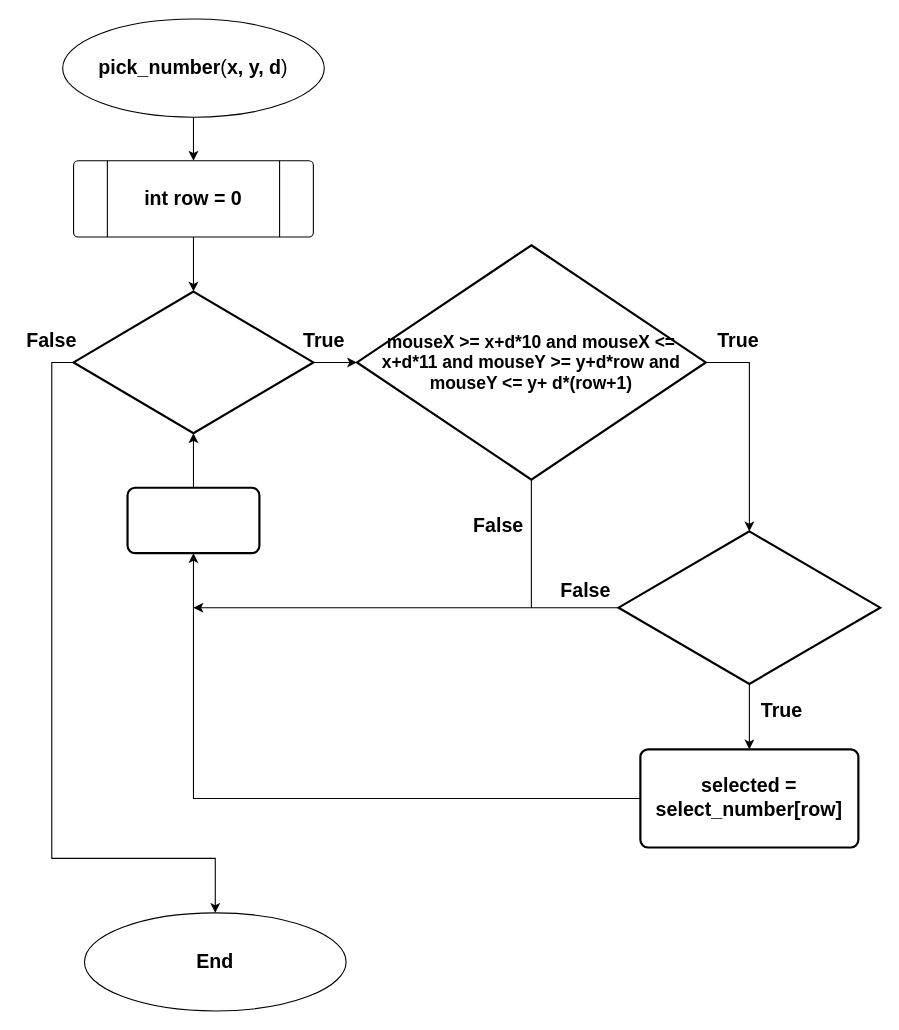
This 899x1030 diagram has some shape labels left out. Each missing label, with the centre of its shape:
"mouseButton == LEFT" belongs at (x=749, y=607).
"row < 9" belongs at (x=193, y=362).
"row = row + 1" belongs at (x=193, y=520).
